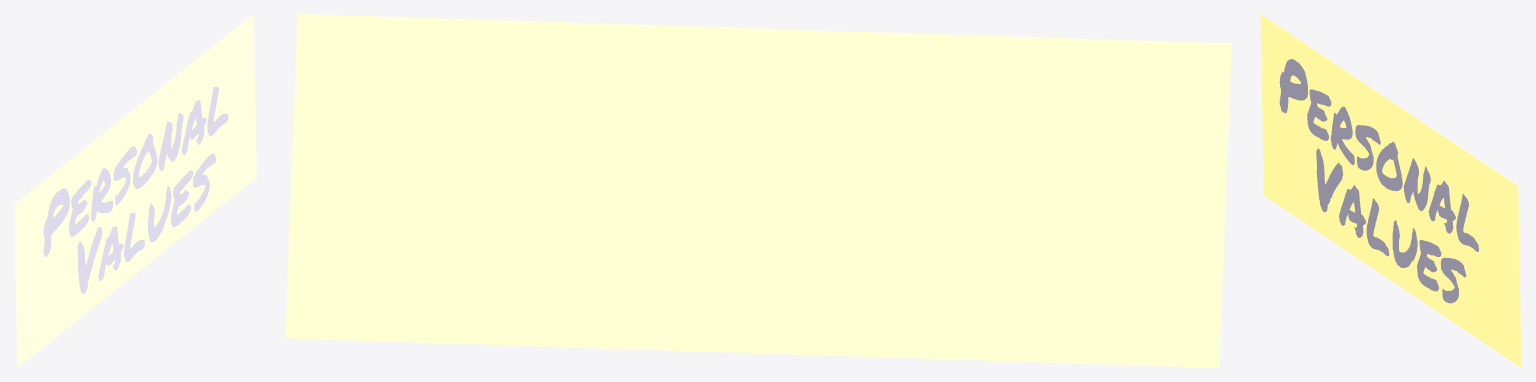
The model's file is btnvalues.gltf.
3 views of the same model, side by side, from view 1: azimuth 30°, elevation 25°; view 2: azimuth 150°, elevation 25°; view 3: azimuth 270°, elevation 25° (orthographic). The views are drawn at different scales.
Visible parts, largest first — view 1: Plane.024, btn values; view 2: Plane.024; view 3: Plane.024, btn values.
Part boxes in pixels (x1,y1,x2,y2): Plane.024: (14, 14, 256, 367); btn values: (43, 86, 228, 293); Plane.024: (285, 14, 1231, 367); Plane.024: (1260, 14, 1521, 367); btn values: (1279, 59, 1478, 303).
Size of the model in its own units: 2.11 by 1 by 1.22.
